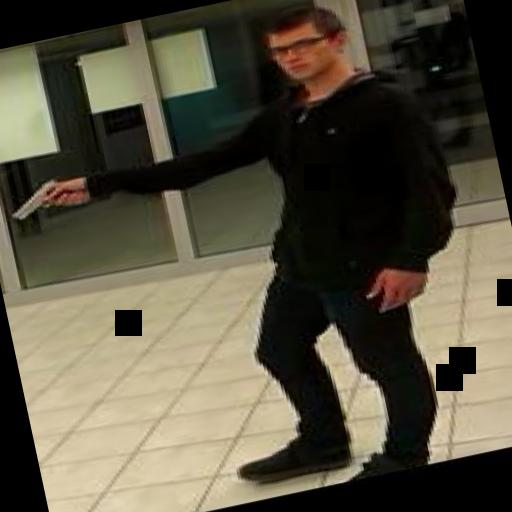Handgun: (0, 171, 84, 222)
